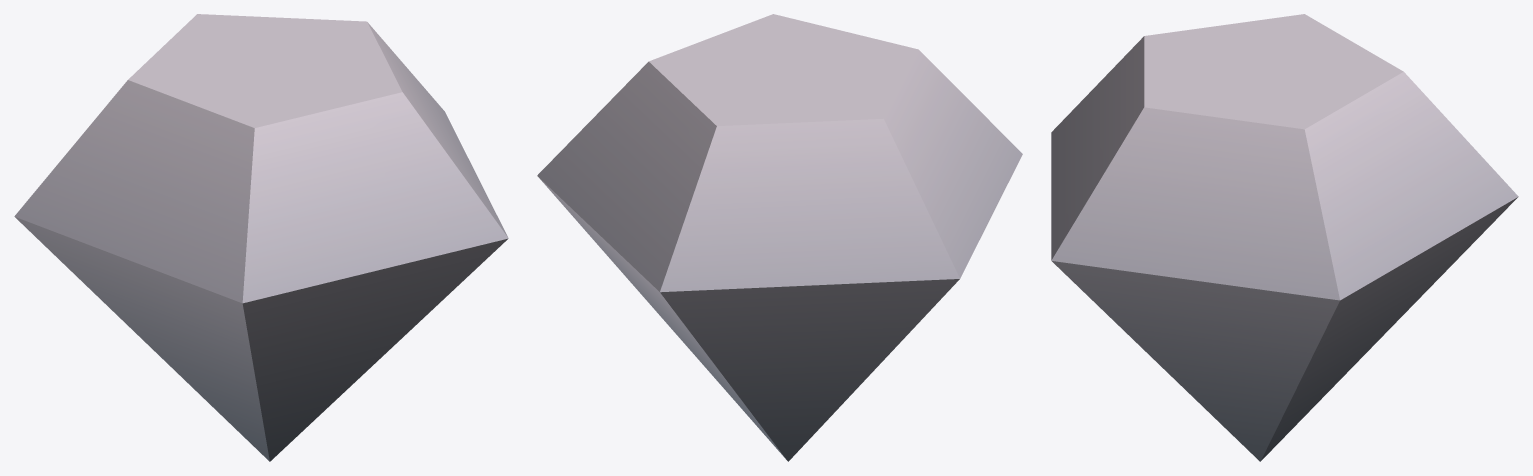
The model's file is 5SideDiamond.fbx.
3 renders of one model, left to right at view 1: azimuth 30°, elevation 25°; view 2: azimuth 150°, elevation 25°; view 3: azimuth 270°, elevation 25°, orthographic.
Parts seen in each view (by area): view 1: 5SideDiamond; view 2: 5SideDiamond; view 3: 5SideDiamond.
Part boxes in pixels (x1,y1,x2,y2): 5SideDiamond: (14, 14, 508, 461); 5SideDiamond: (537, 14, 1022, 461); 5SideDiamond: (1051, 14, 1518, 461).
Size of the model in its own units: 276 by 242 by 263.
